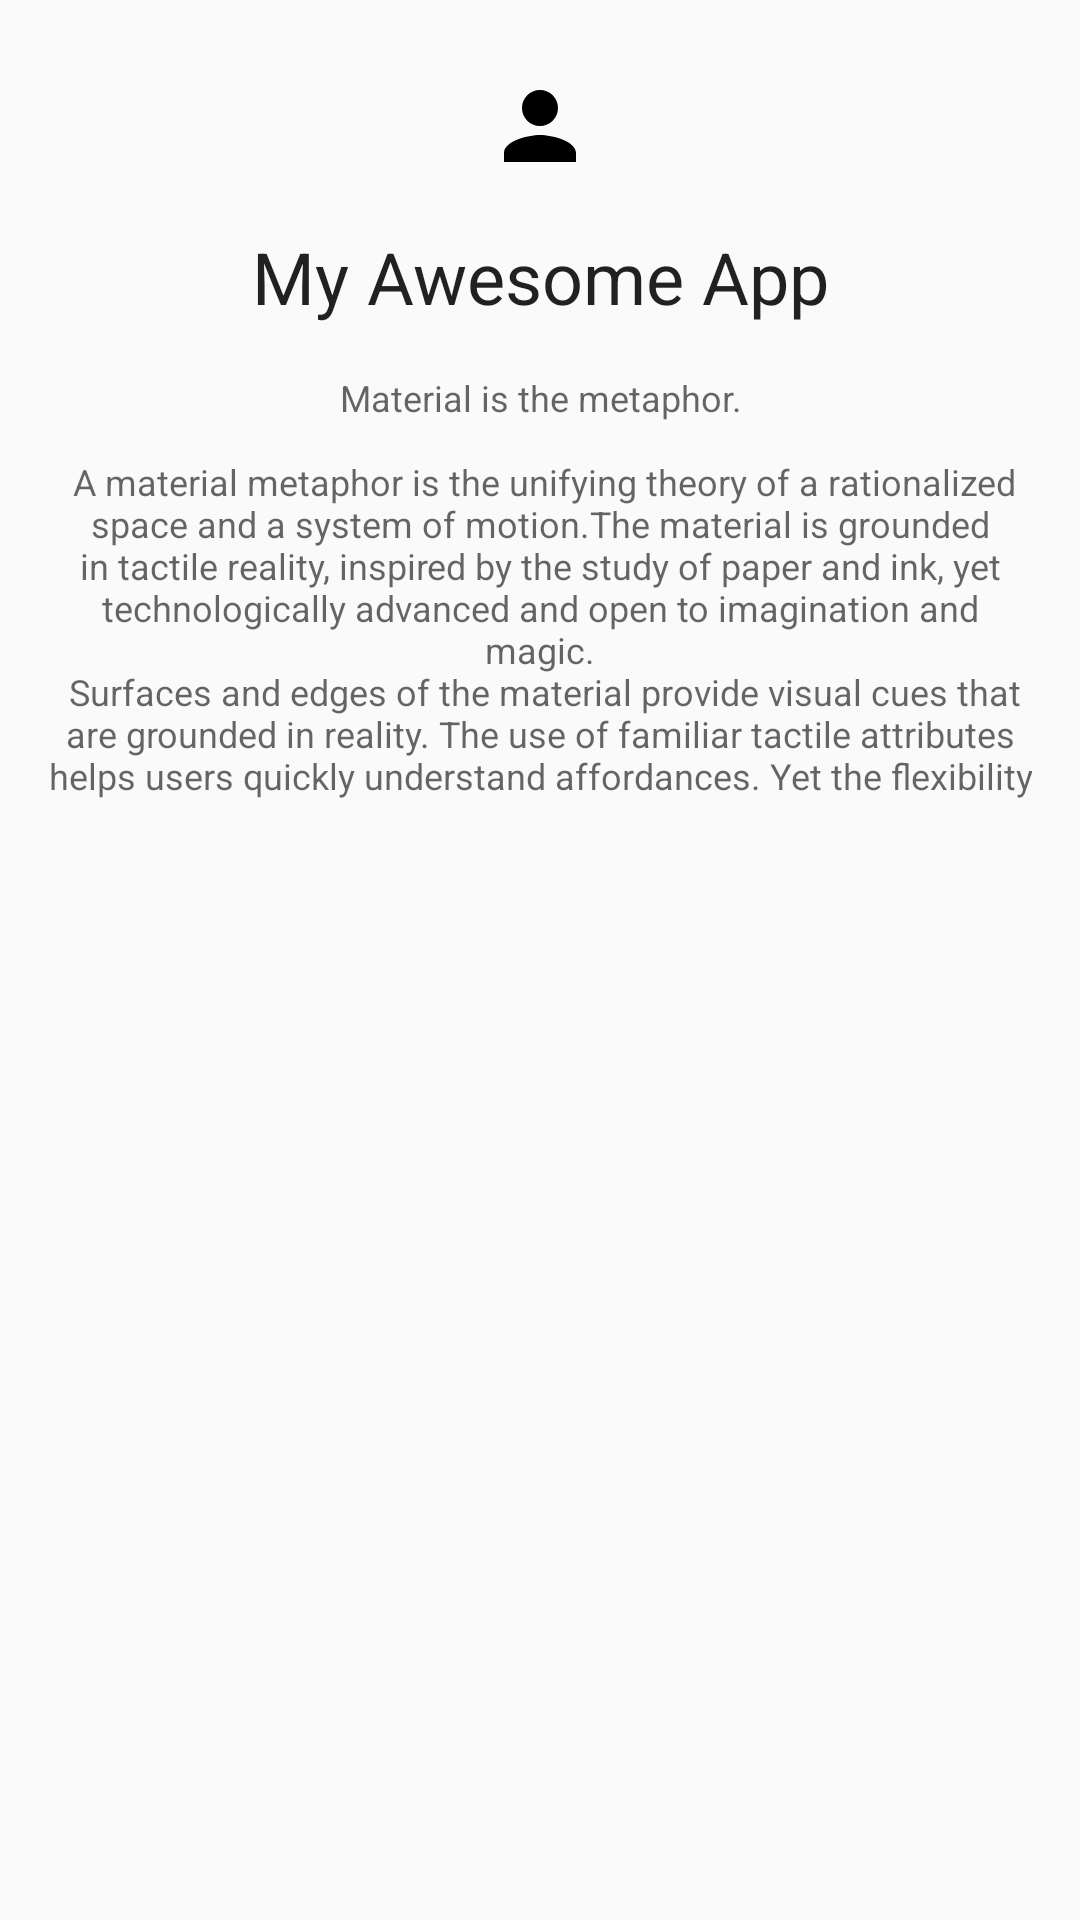

Icons on this 1080px x 1920px Android screen, each with its box as (x1, y1, x2, y2):
person: (504, 90, 576, 162)
